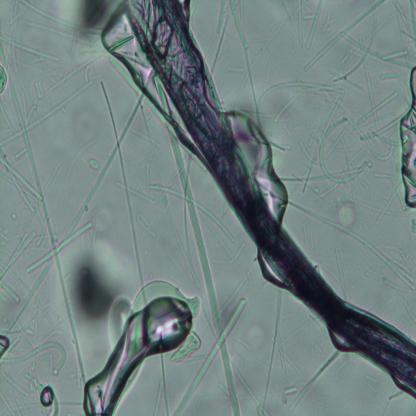Air bubble: (83, 296, 194, 414), (101, 10, 186, 147), (226, 111, 292, 227), (403, 64, 416, 211), (40, 384, 54, 408), (0, 333, 10, 356)
Background material: (72, 235, 122, 316), (0, 373, 37, 416), (168, 332, 204, 362), (335, 196, 361, 227), (87, 156, 102, 173)
Cotton: (132, 0, 416, 391)
Glass filter fibre: (159, 109, 241, 415), (10, 79, 89, 378), (108, 58, 208, 177), (288, 200, 414, 289), (174, 297, 248, 415), (0, 80, 94, 148), (304, 0, 386, 72), (149, 179, 235, 244), (25, 219, 91, 275), (289, 349, 342, 412), (255, 80, 343, 117), (319, 116, 367, 182), (48, 41, 110, 92), (18, 0, 101, 38), (356, 26, 382, 128), (0, 340, 67, 374), (0, 153, 43, 201), (0, 32, 60, 64), (0, 228, 36, 278), (358, 92, 398, 124), (362, 130, 397, 165), (228, 1, 249, 51), (305, 1, 323, 49), (335, 246, 348, 298), (0, 280, 19, 304), (296, 1, 304, 48), (381, 49, 409, 61), (224, 63, 248, 74), (31, 78, 44, 97), (379, 70, 399, 82), (372, 171, 393, 182), (83, 66, 91, 84)
